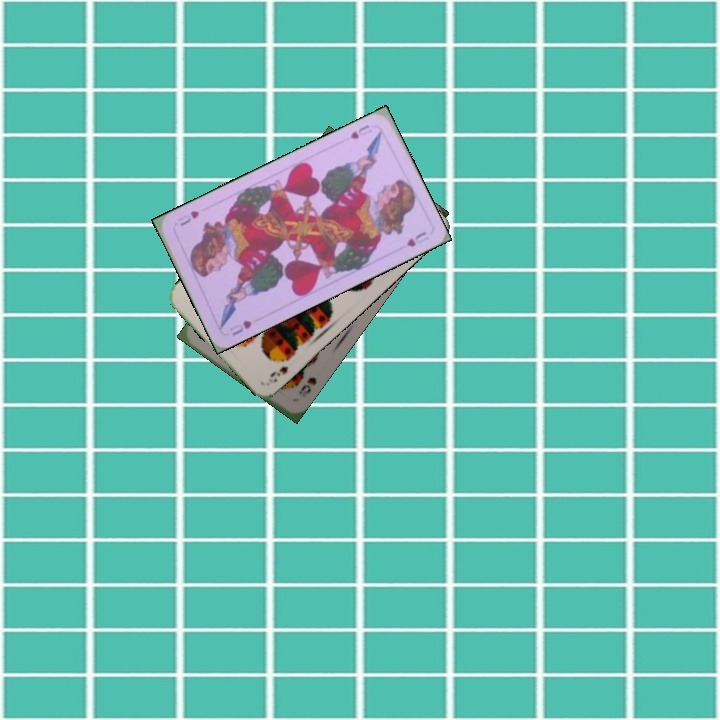HU: (226, 316, 255, 339), (346, 120, 372, 142)
S8: (295, 373, 319, 400)
S9: (266, 352, 294, 380)
